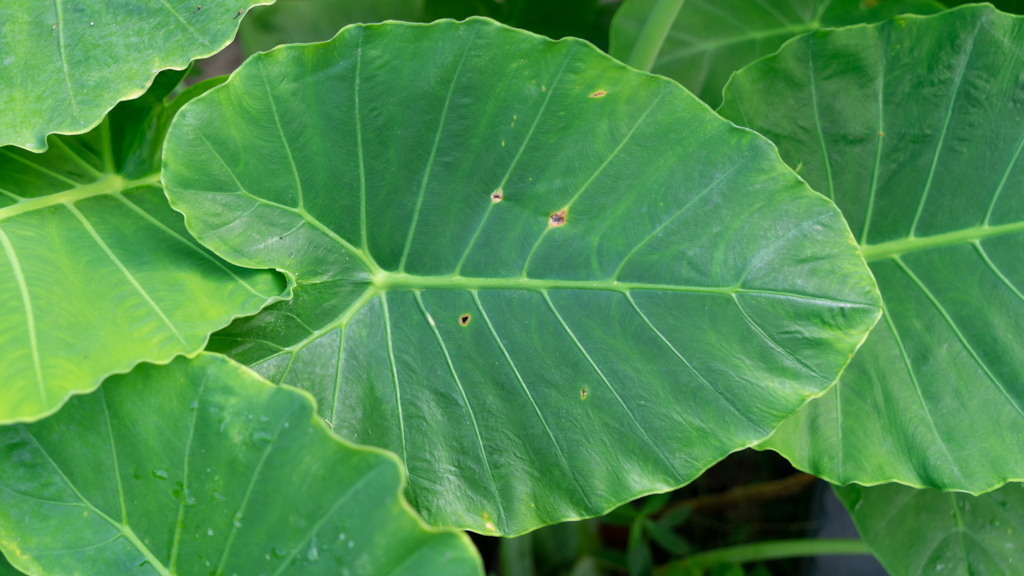frog-eye leafspot: (539, 200, 573, 232), (577, 79, 613, 105), (566, 377, 599, 404), (453, 303, 476, 332), (484, 187, 510, 209)
